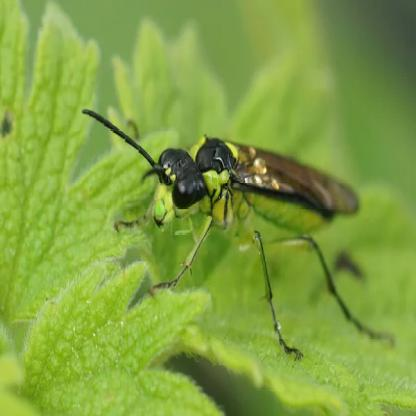sawfly: (84, 97, 390, 356)
